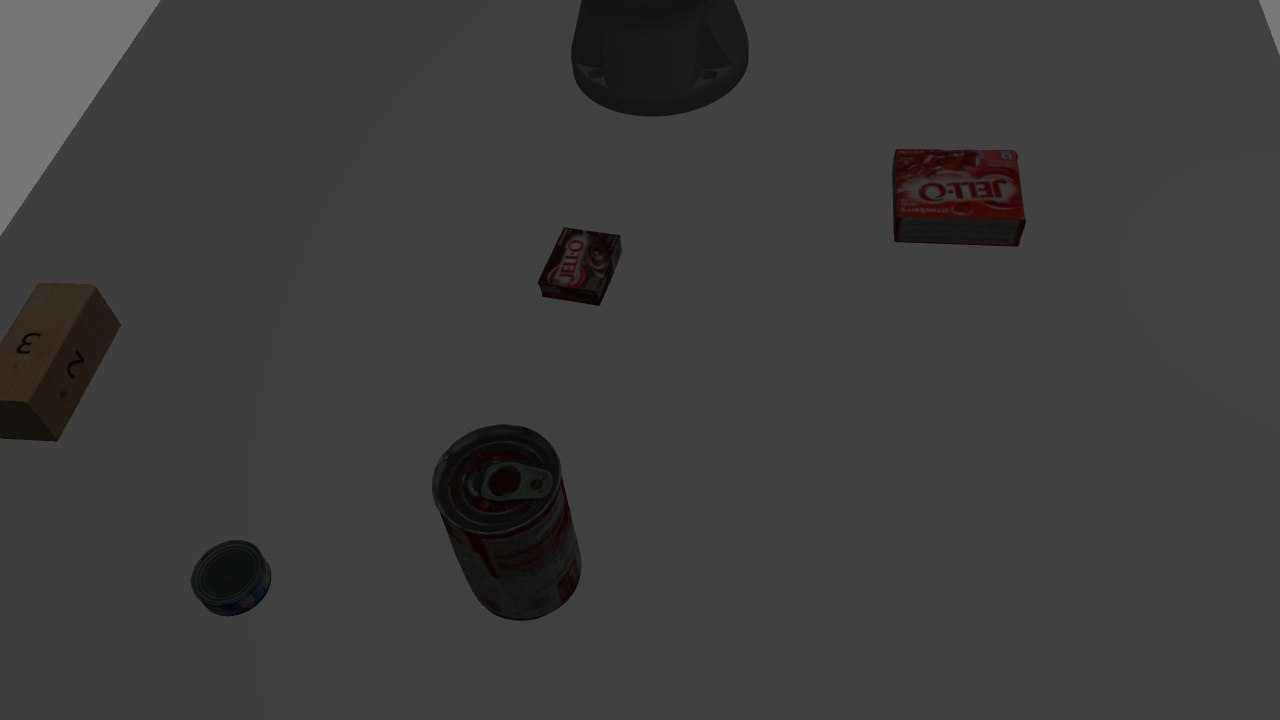gelatin_box: (887, 130, 1032, 251)
pudding_box: (534, 224, 630, 308)
tomato_soup_can: (423, 415, 588, 621)
tuna_fish_can: (188, 543, 286, 612)
wood_block: (5, 275, 123, 444)
